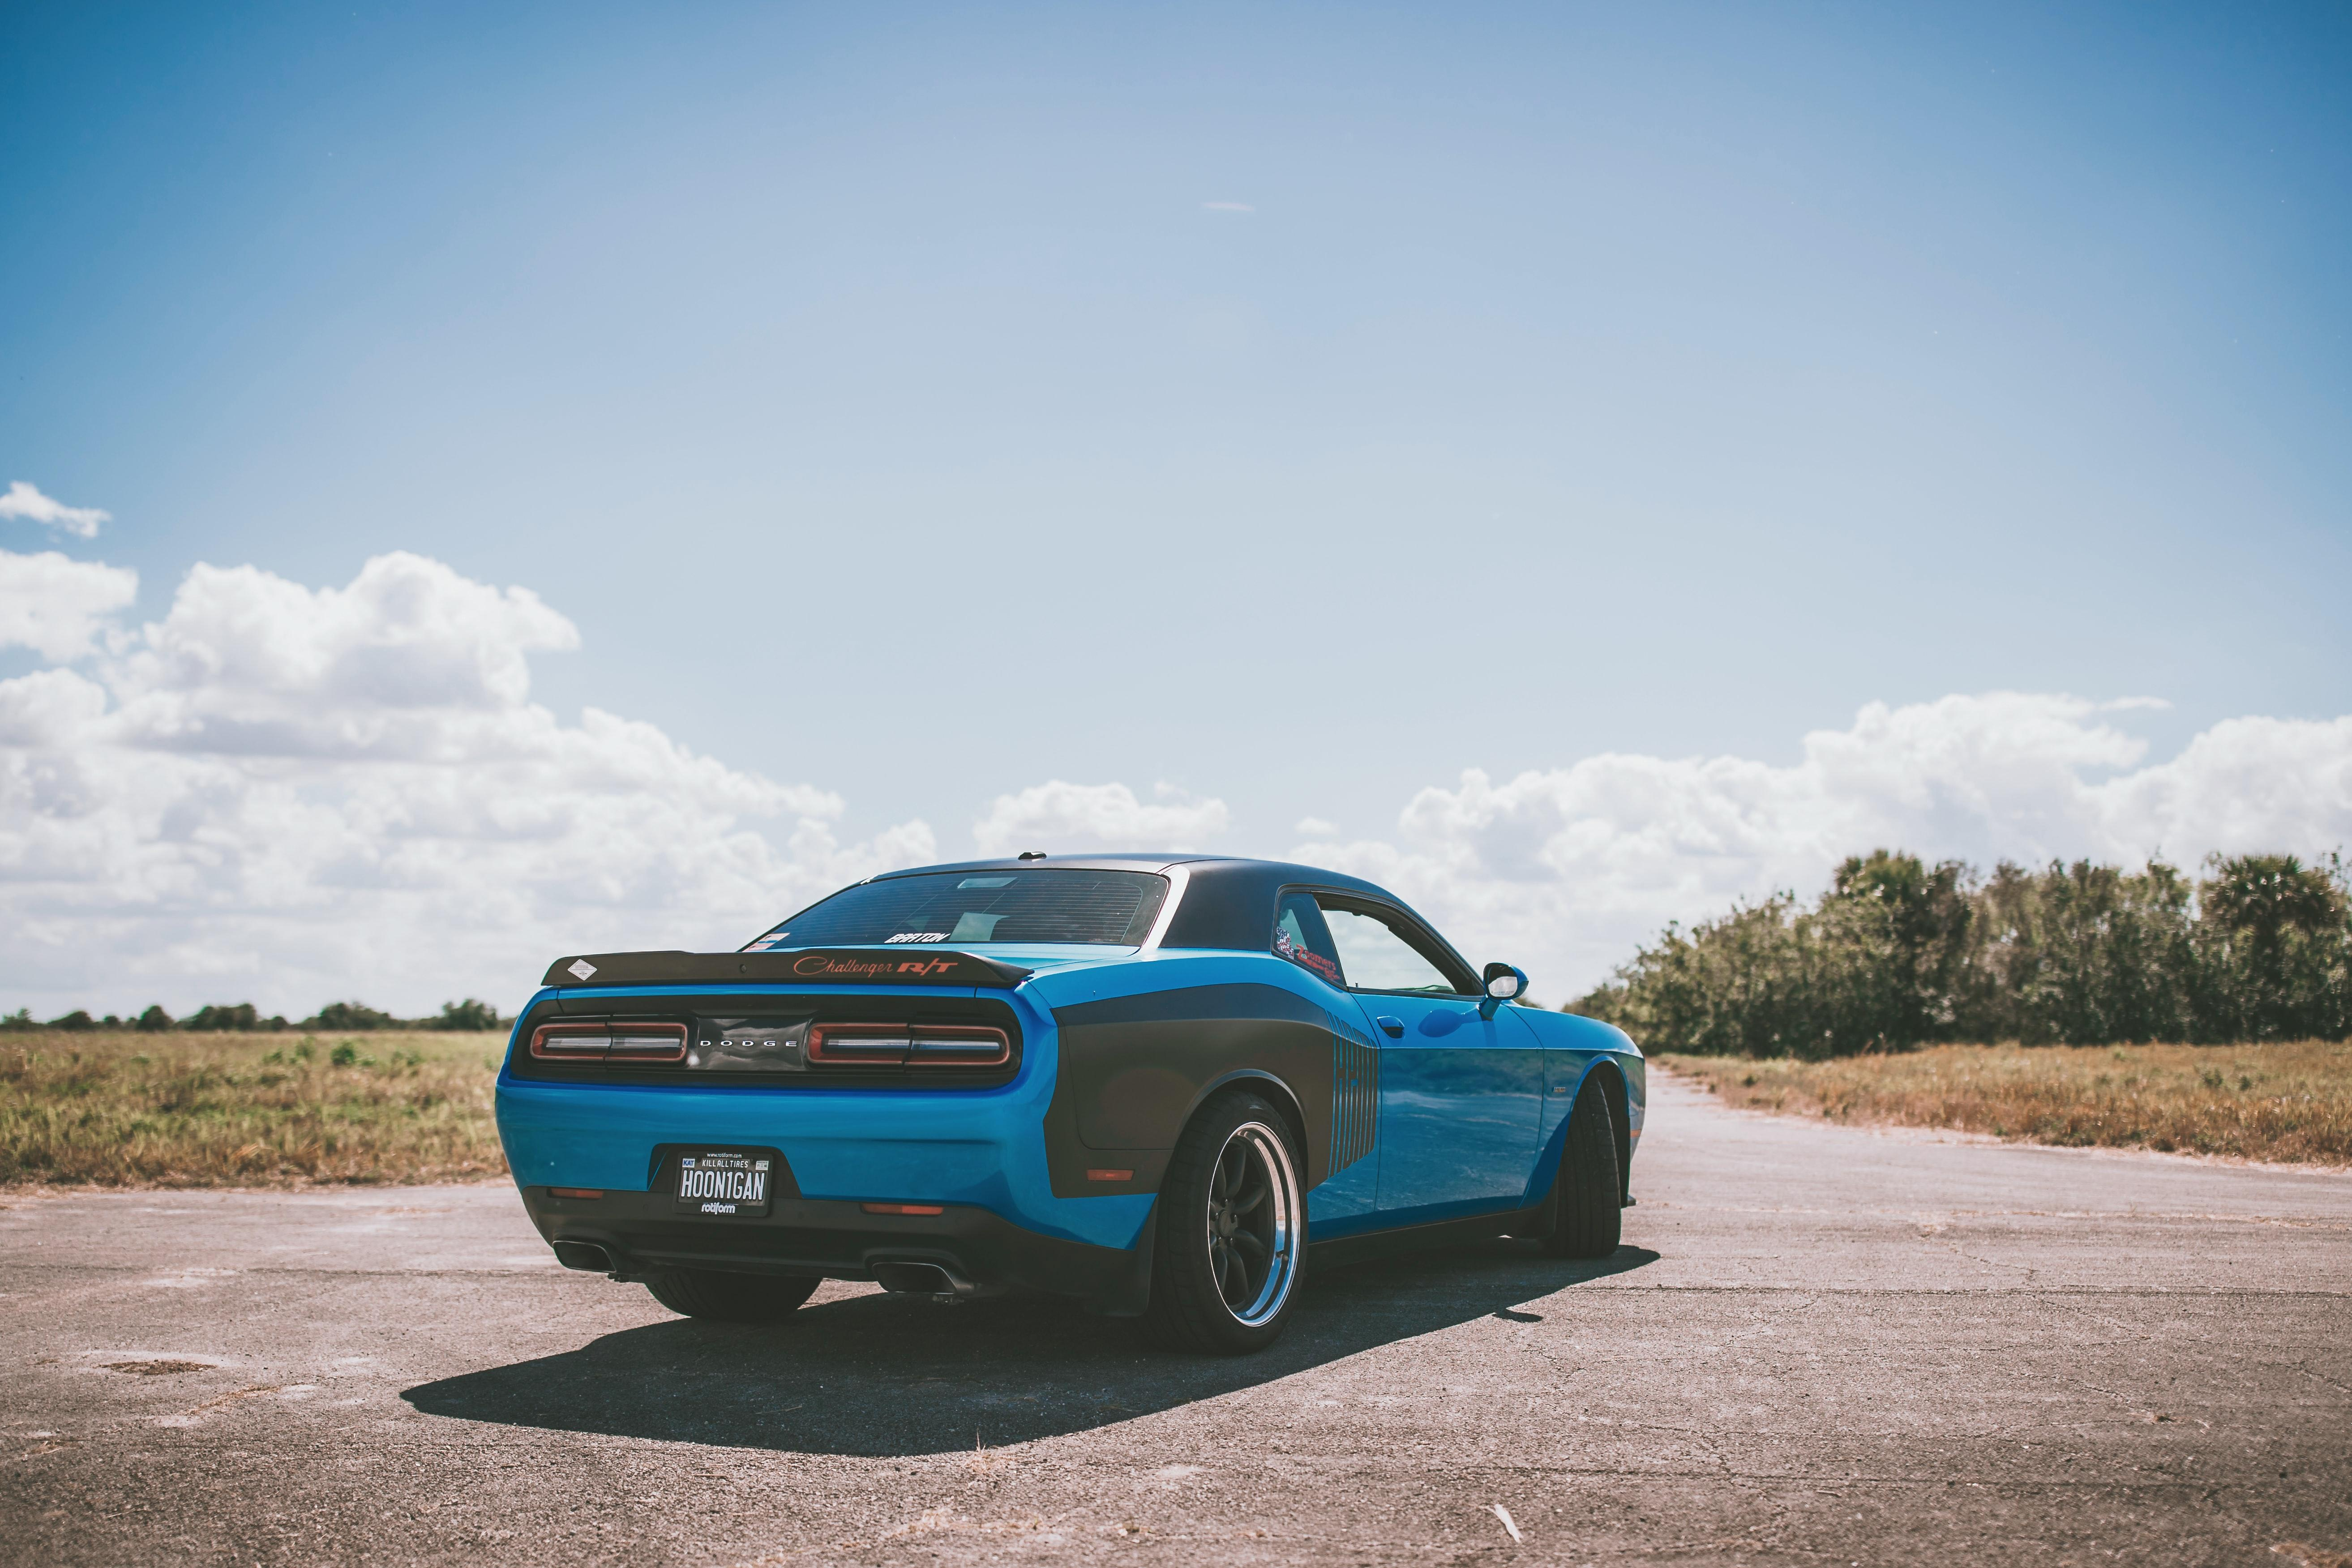dodge: (681, 1020, 810, 1060)
